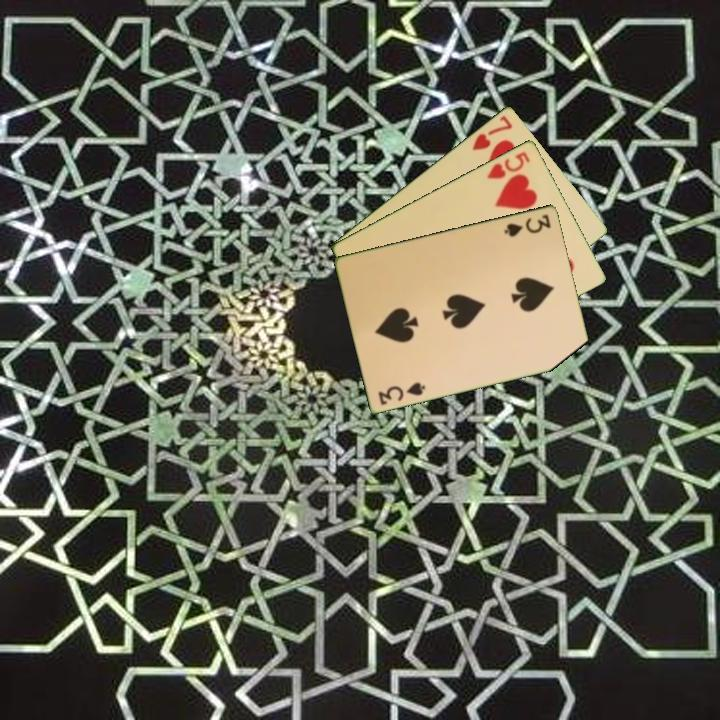3s: (501, 210, 554, 239), (375, 378, 428, 407)
5h: (483, 148, 533, 182)
7h: (468, 112, 516, 153)
